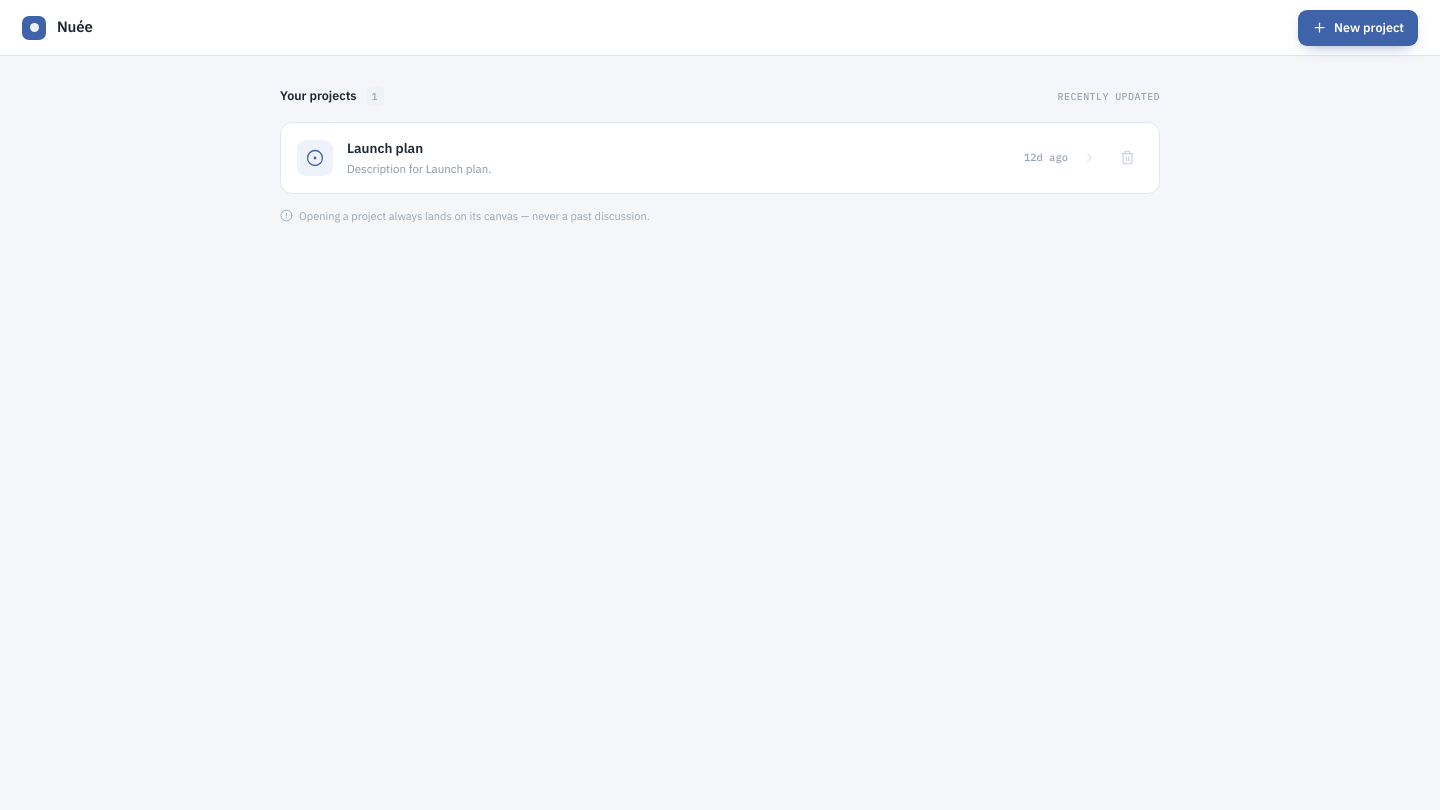
Project list deletion › shows the empty state once the last project is deleted
expect the text "Launch plan" is shown: met, box [347, 139, 423, 157]
What coordinates should you click on to do the following:
click the button named "Delete Launch plan"
I would click on:
 (1127, 158)
Its box is [1111, 142, 1143, 174].
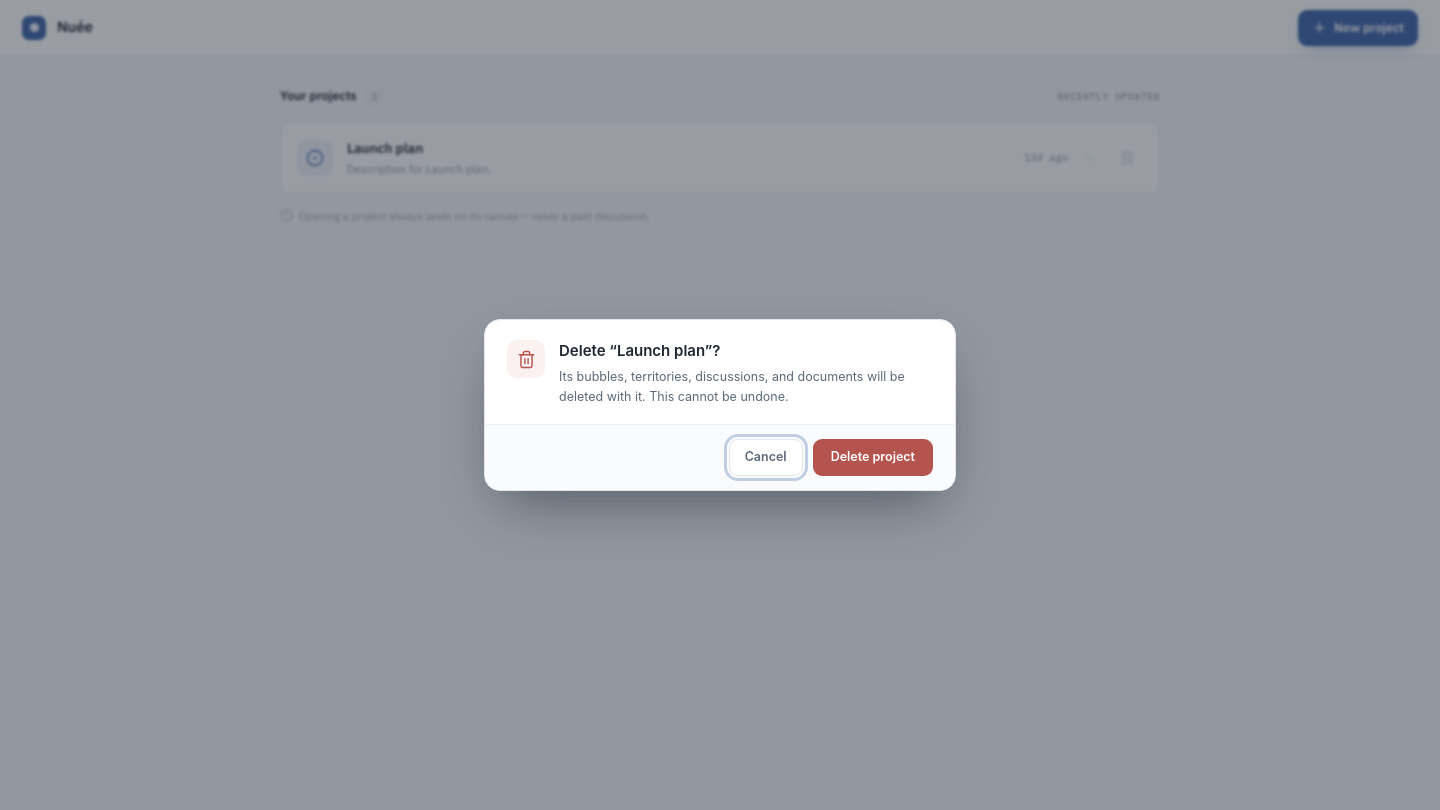
What coordinates should you click on to do the following:
click the button "Delete project"
I would click on:
 (873, 457)
Its box is [813, 439, 933, 476].
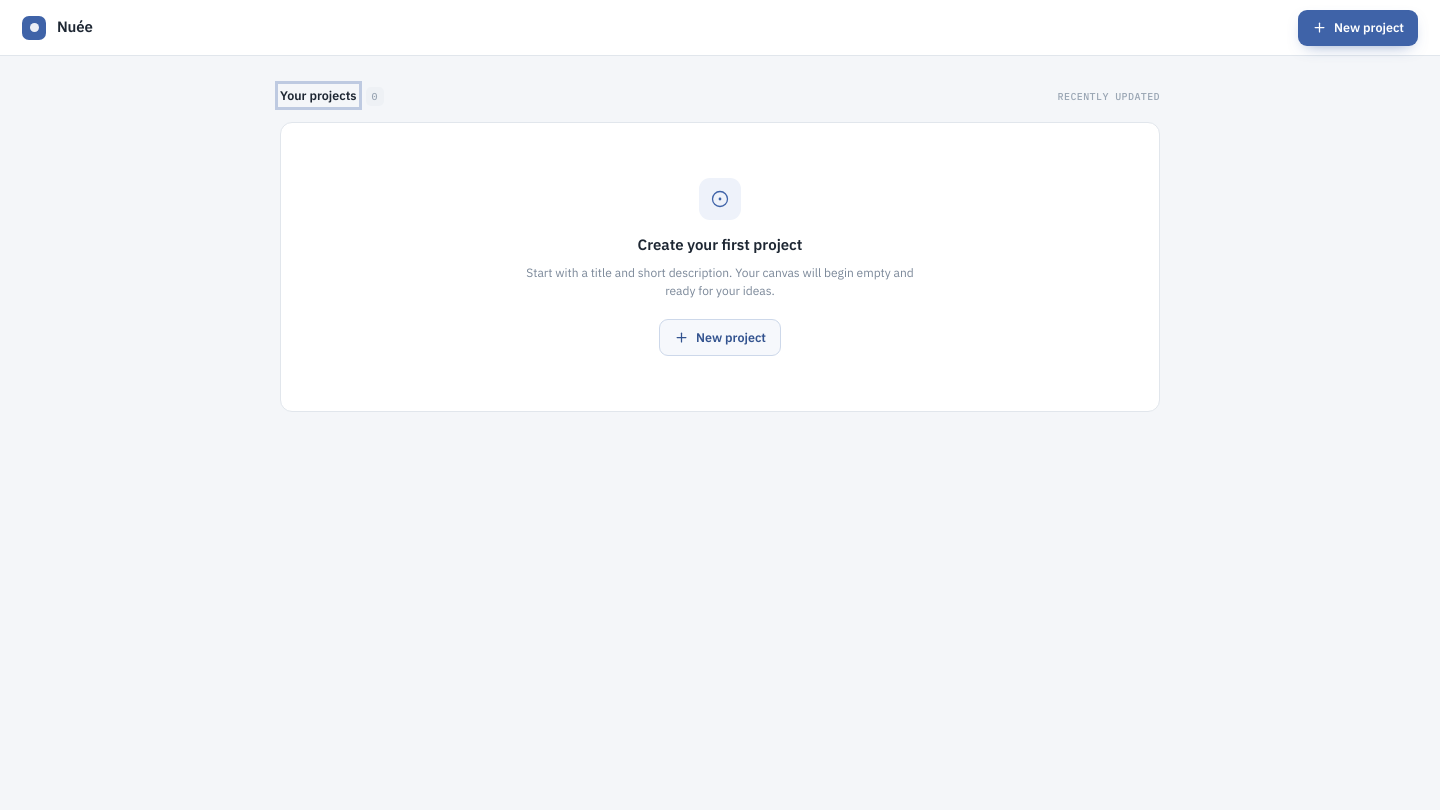
expect the heading "Create your first project" is shown: met, box [638, 234, 802, 257]
